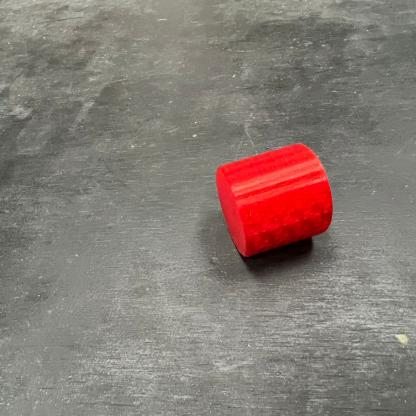red cylinder: (214, 142, 334, 260)
